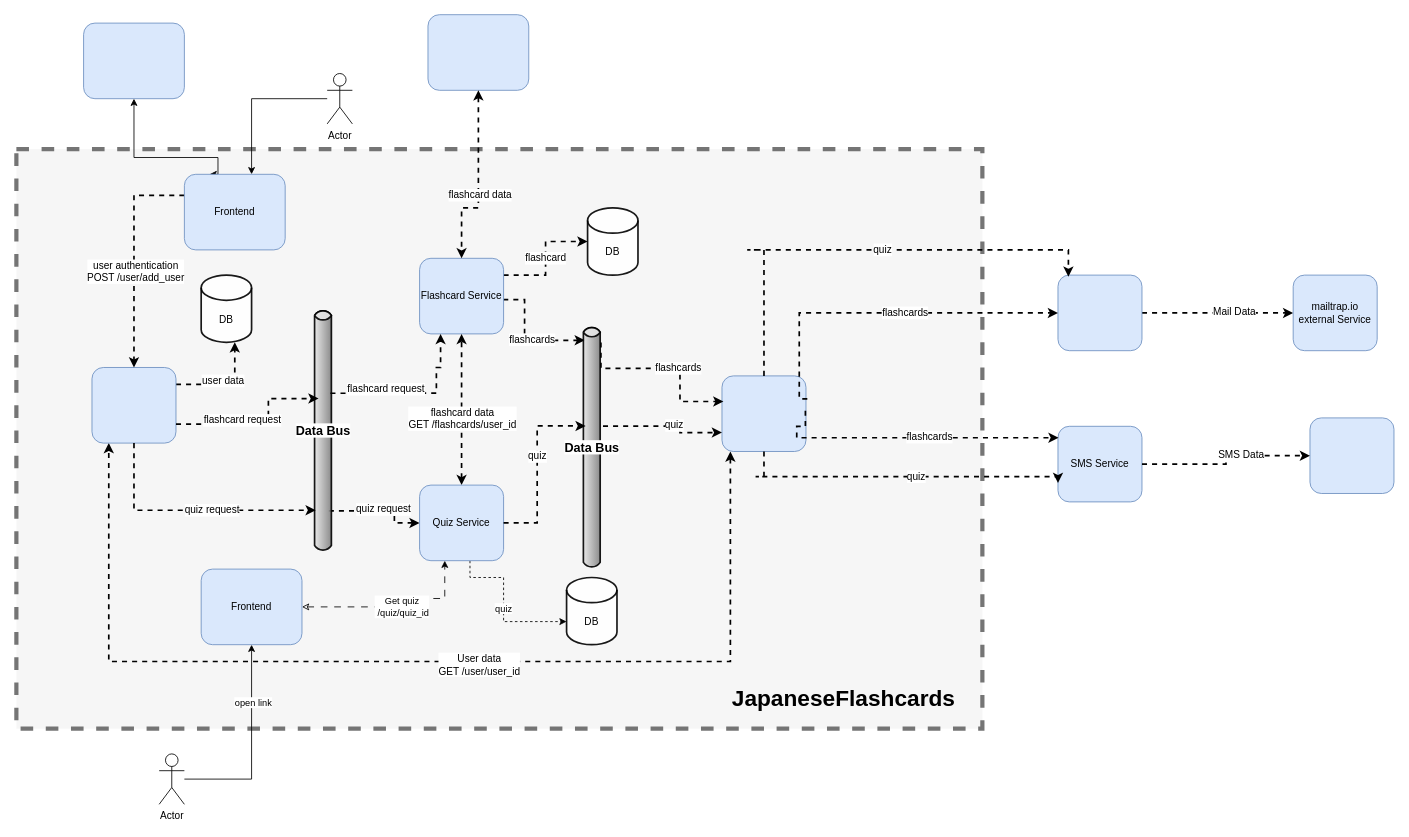
The diagram is 1409 pixels wide and 837 high, and some of its shapes have lost their labels. Here are the shapes that lost their labels. From the top down, the centre of each, then its label:
At point 133,60: "Google Api external service".
At point 478,52: "Word-Pair API jisho api".
At point 1099,312: "Mailing Service".
At point 133,405: "User service".
At point 763,413: "Notifications Service".
At point 1351,455: "TwilioAPI external Service".
